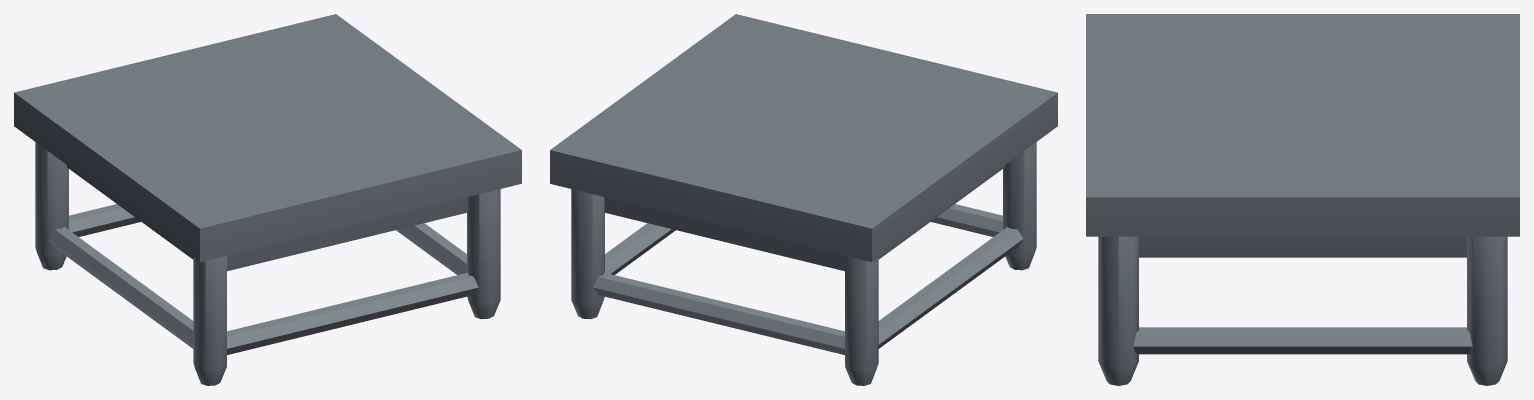
The model's file is kitchen-table.glb.
3 renders of one model, left to right at view 1: azimuth 30°, elevation 25°; view 2: azimuth 150°, elevation 25°; view 3: azimuth 270°, elevation 25°, orthographic. The views are drawn at different scales.
Parts seen in each view (by area): view 1: kitchentable_A; view 2: kitchentable_A; view 3: kitchentable_A.
Part boxes in pixels (<box>): kitchentable_A: <box>14,14,521,385</box>; kitchentable_A: <box>550,14,1057,385</box>; kitchentable_A: <box>1086,14,1519,385</box>.
Size of the model in its own units: 1.79 by 0.9001 by 1.79.
1 material, 1 textured.
